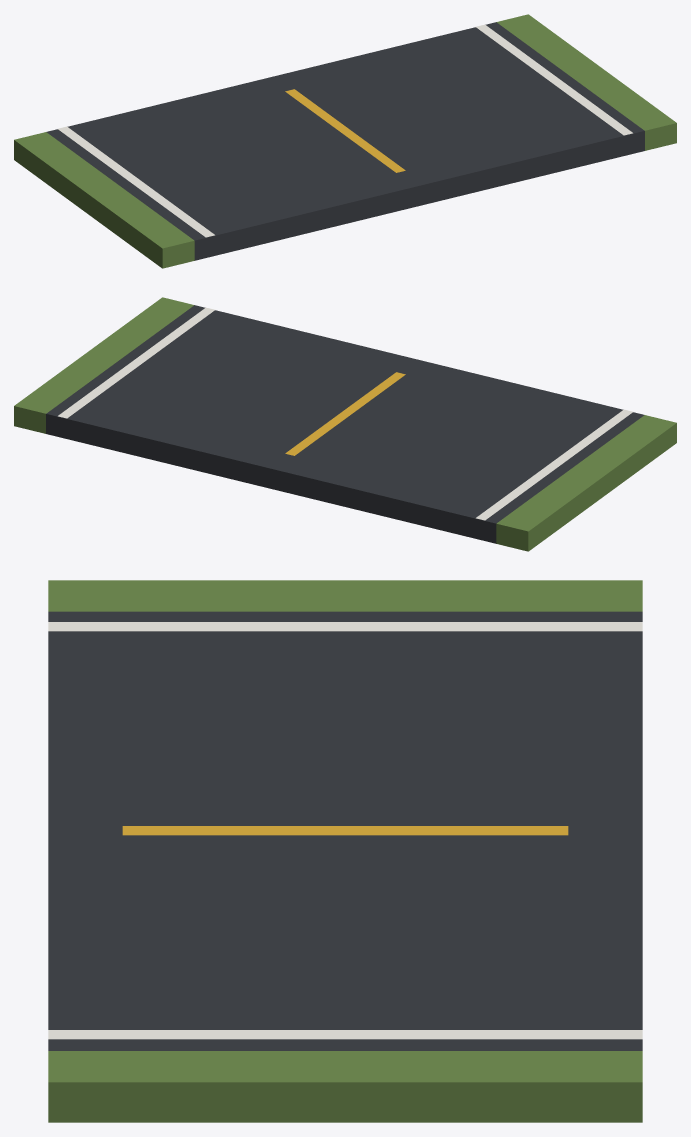
The model's file is Road_2Lane_NoSidewalk_Straight_4m.glb.
3 renders of one model, top to bottom at view 1: azimuth 30°, elevation 25°; view 2: azimuth 150°, elevation 25°; view 3: azimuth 270°, elevation 25°, orthographic. The views are drawn at different scales.
Parts seen in each view (by area): view 1: Road_2Lane_NoSidewalk_Straight_4m_Asphalt, Road_2Lane_NoSidewalk_Straight_4m_Grass-edge, Road_2Lane_NoSidewalk_Straight_4m_PaintWhite, Road_2Lane_NoSidewalk_Straight_4m_PaintYellow; view 2: Road_2Lane_NoSidewalk_Straight_4m_Asphalt, Road_2Lane_NoSidewalk_Straight_4m_Grass-edge, Road_2Lane_NoSidewalk_Straight_4m_PaintWhite, Road_2Lane_NoSidewalk_Straight_4m_PaintYellow; view 3: Road_2Lane_NoSidewalk_Straight_4m_Asphalt, Road_2Lane_NoSidewalk_Straight_4m_Grass-edge, Road_2Lane_NoSidewalk_Straight_4m_PaintWhite, Road_2Lane_NoSidewalk_Straight_4m_PaintYellow.
Boxes of the visible parts, x1,y1,x2,y2 form: Road_2Lane_NoSidewalk_Straight_4m_Asphalt: [46, 22, 644, 260]; Road_2Lane_NoSidewalk_Straight_4m_Grass-edge: [14, 14, 676, 268]; Road_2Lane_NoSidewalk_Straight_4m_PaintWhite: [58, 24, 632, 237]; Road_2Lane_NoSidewalk_Straight_4m_PaintYellow: [285, 89, 405, 172]; Road_2Lane_NoSidewalk_Straight_4m_Asphalt: [46, 305, 644, 543]; Road_2Lane_NoSidewalk_Straight_4m_Grass-edge: [14, 297, 676, 551]; Road_2Lane_NoSidewalk_Straight_4m_PaintWhite: [58, 307, 632, 520]; Road_2Lane_NoSidewalk_Straight_4m_PaintYellow: [285, 372, 405, 455]; Road_2Lane_NoSidewalk_Straight_4m_Asphalt: [48, 611, 642, 1050]; Road_2Lane_NoSidewalk_Straight_4m_Grass-edge: [48, 580, 642, 1122]; Road_2Lane_NoSidewalk_Straight_4m_PaintWhite: [48, 622, 642, 1039]; Road_2Lane_NoSidewalk_Straight_4m_PaintYellow: [122, 826, 568, 835].
Size of the model in its own units: 8 by 0.305 by 4.
